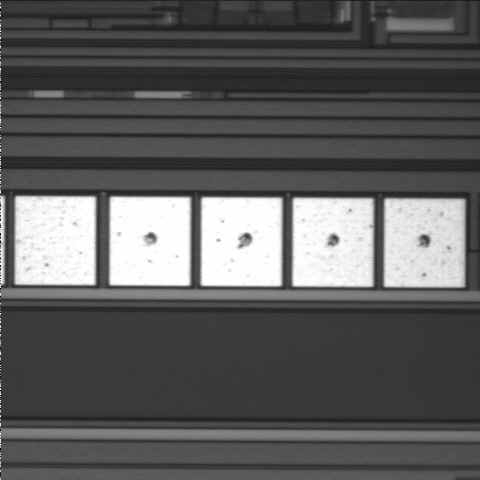pad: (109, 197, 191, 286), (15, 196, 96, 285), (201, 197, 282, 286), (292, 198, 373, 287), (384, 199, 465, 287)
